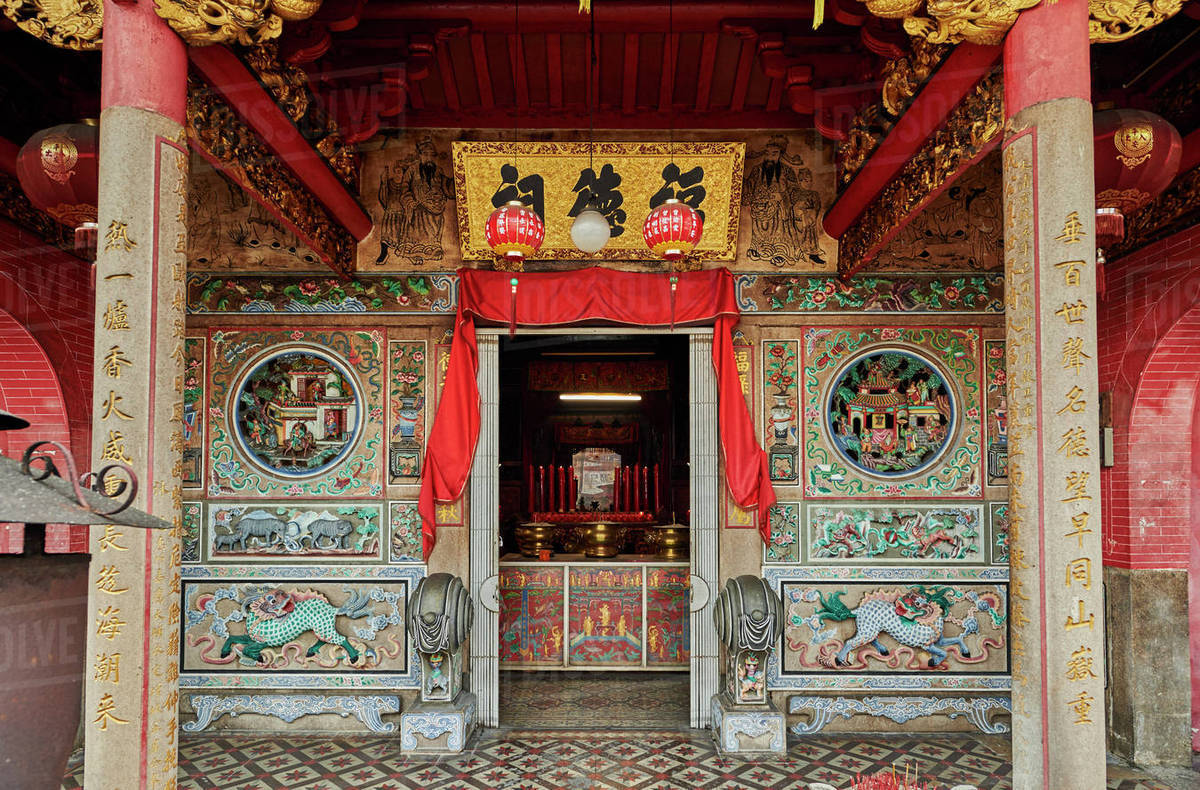Buddhist Temple: (97, 66, 1076, 653)
